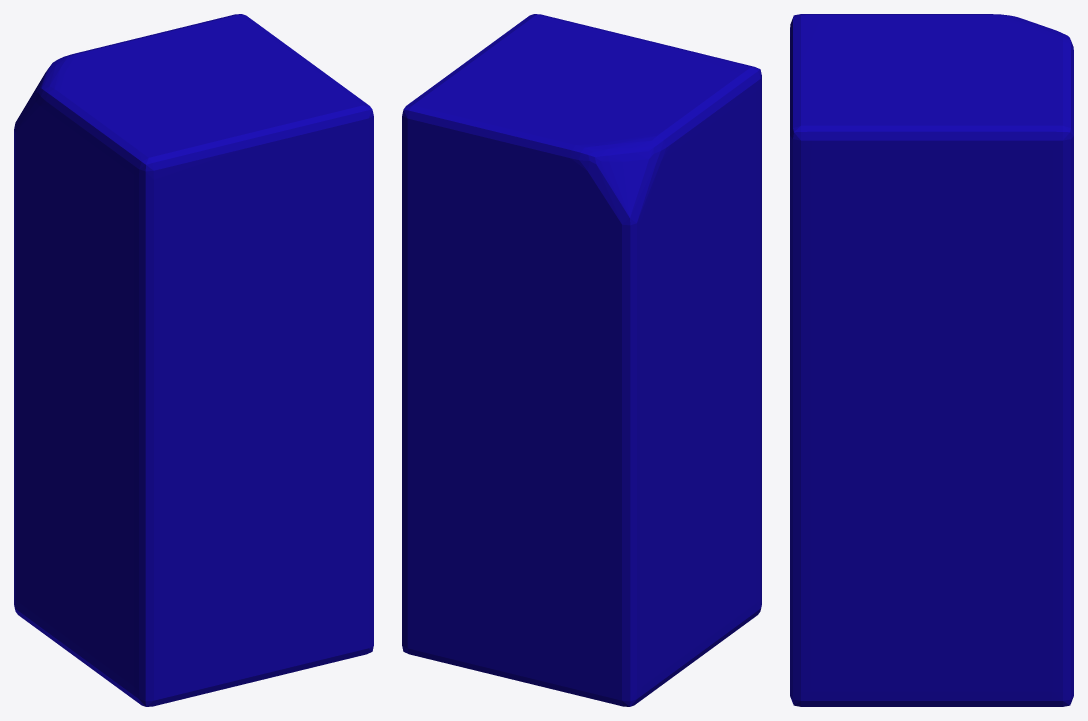
File: right_hip_roll_link_part_5.obj
3 views of the same model, side by side, from view 1: azimuth 30°, elevation 25°; view 2: azimuth 150°, elevation 25°; view 3: azimuth 270°, elevation 25° (orthographic). The views are drawn at different scales.
Bounding box in the file's own units: 0.0336 × 0.0752 × 0.0334.
